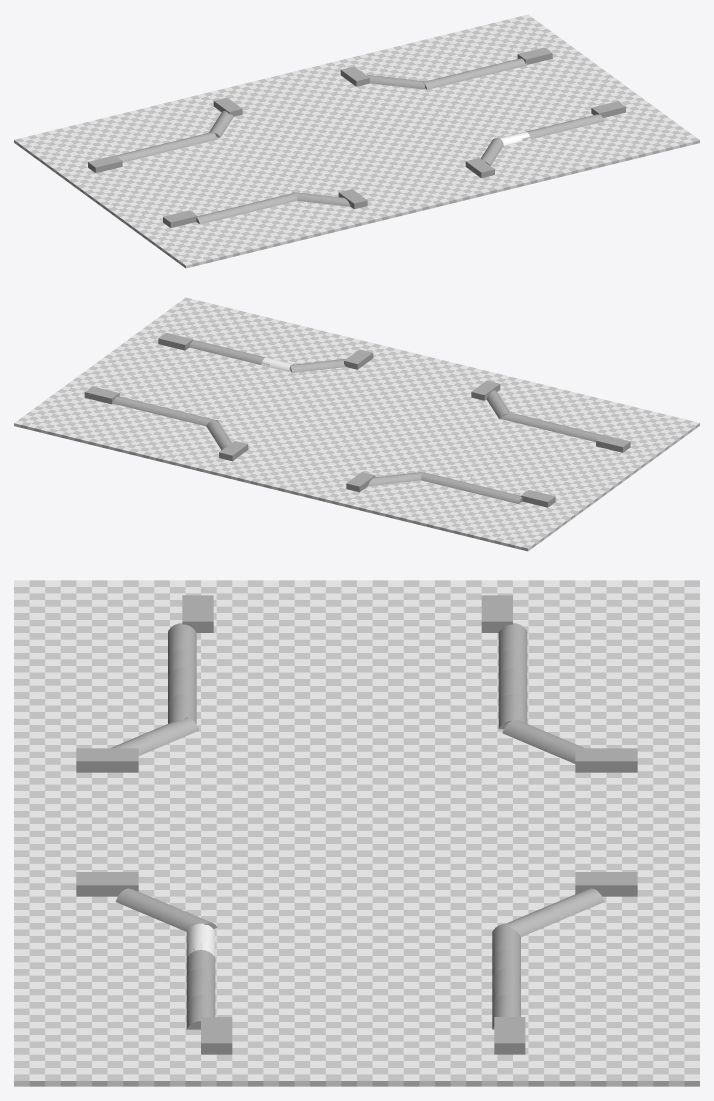
The model's file is 4PlayerBoard.obj.
The picture shows the model from 3 angles, top to bottom: view 1: azimuth 30°, elevation 25°; view 2: azimuth 150°, elevation 25°; view 3: azimuth 270°, elevation 25°; orthographic projection. The views are drawn at different scales.
Bounding box in the file's own units: 19 × 0.3 × 11.
Materials: 3 (1 with a texture image).
